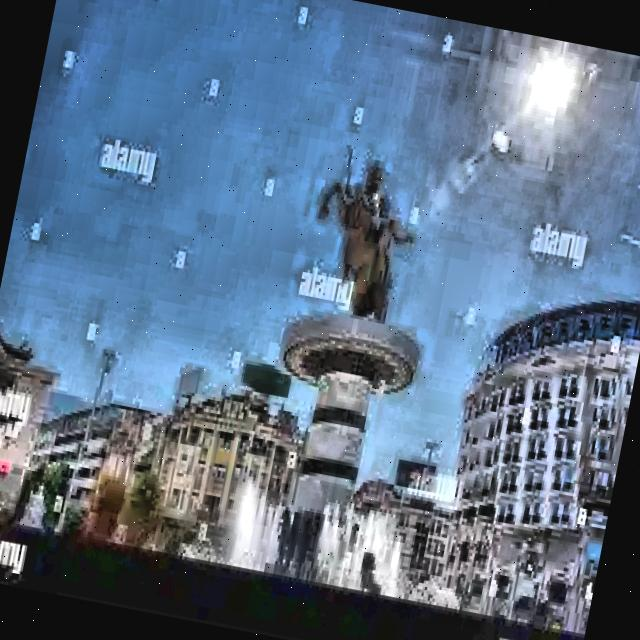alexander the great monument: (240, 137, 460, 585)
